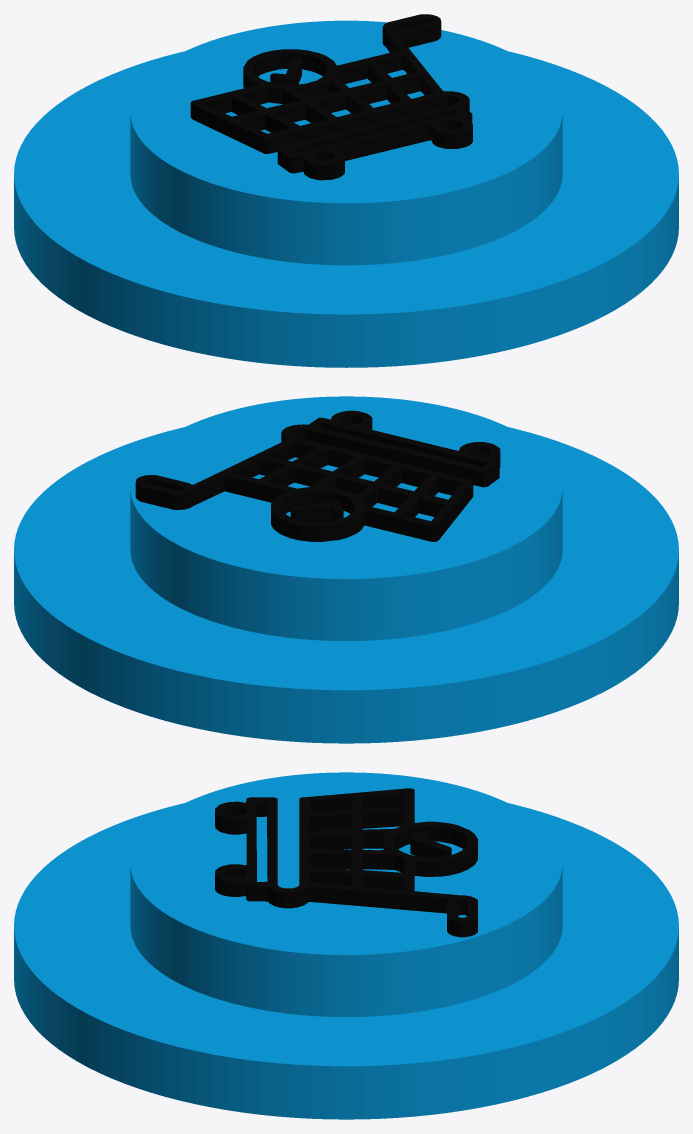
Rendered from bouton-boutique.gltf.
The picture shows the model from 3 angles, top to bottom: view 1: azimuth 30°, elevation 25°; view 2: azimuth 150°, elevation 25°; view 3: azimuth 270°, elevation 25°; orthographic projection.
Size of the model in its own units: 0.04 by 0.00988 by 0.04.
Materials: 2 (1 with a texture image).
